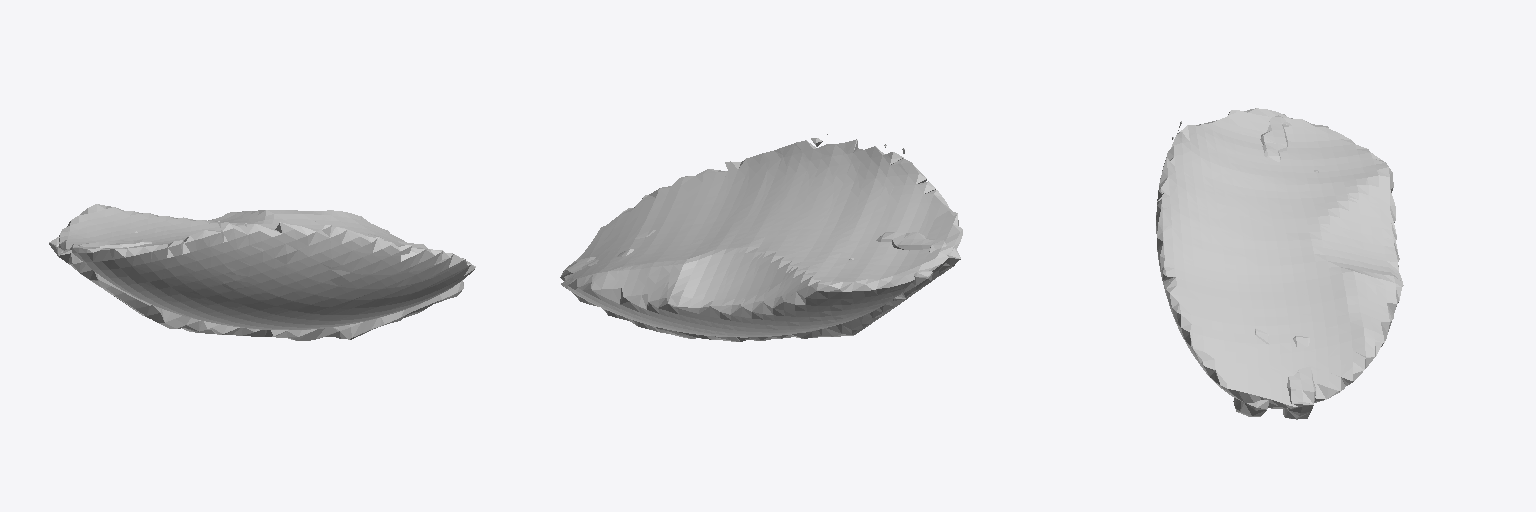
Rendered from surfboard1.obj.
3 views of the same model, side by side, from view 1: azimuth 30°, elevation 25°; view 2: azimuth 150°, elevation 25°; view 3: azimuth 270°, elevation 25° (orthographic).
Parts seen in each view (by area): view 1: Layer_1, Layer_2; view 2: Layer_1, Layer_3, Layer_2; view 3: Layer_1, Layer_2, Layer_3.
Part boxes in pixels (left/top/right/bottom): Layer_1: left=59, top=204, right=475, bottom=329; Layer_2: left=59, top=239, right=463, bottom=340; Layer_1: left=561, top=134, right=962, bottom=337; Layer_3: left=560, top=249, right=932, bottom=341; Layer_2: left=635, top=230, right=960, bottom=281; Layer_1: left=1156, top=108, right=1403, bottom=408; Layer_2: left=1233, top=114, right=1291, bottom=416; Layer_3: left=1283, top=125, right=1328, bottom=419.
Size of the model in its own units: 0.2321 by 0.1053 by 0.1271.